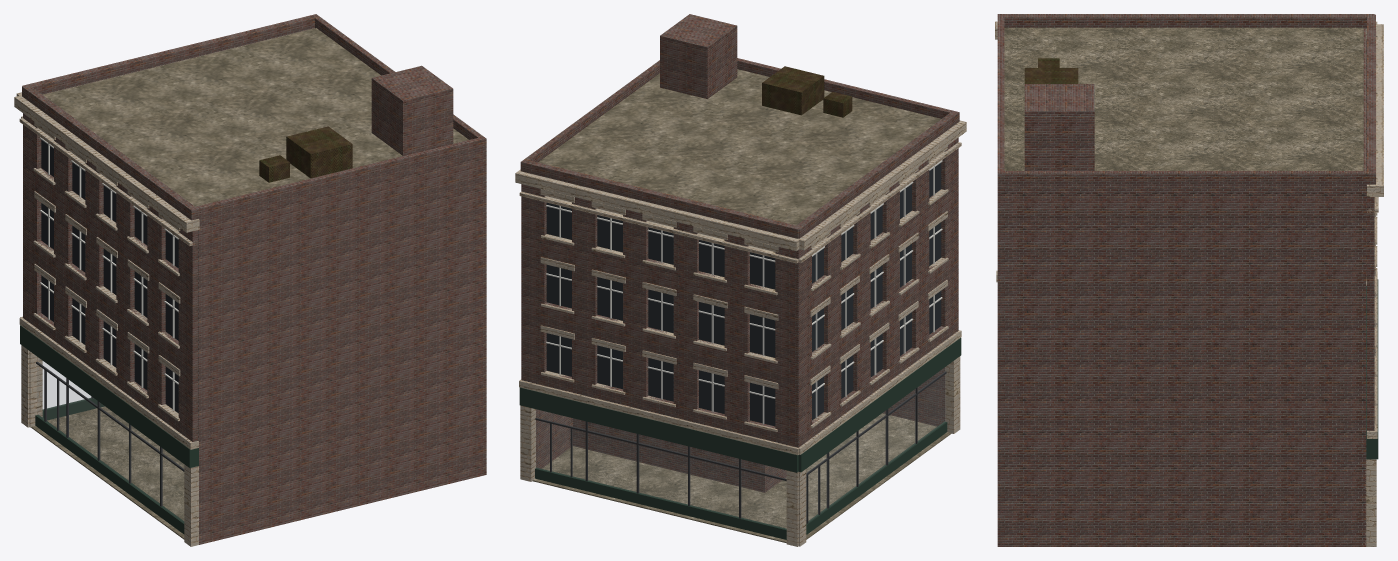
Rendered from bldg_corner_4st_L.gltf.
The picture shows the model from 3 angles, left to right: view 1: azimuth 30°, elevation 25°; view 2: azimuth 150°, elevation 25°; view 3: azimuth 270°, elevation 25°; orthographic projection. The views are drawn at different scales.
Parts seen in each view (by area): view 1: bldg_corner_4st_L; view 2: bldg_corner_4st_L; view 3: bldg_corner_4st_L.
Boxes of the visible parts, x1=… form: bldg_corner_4st_L: x1=14, y1=14, x2=486, y2=546; bldg_corner_4st_L: x1=515, y1=14, x2=966, y2=546; bldg_corner_4st_L: x1=995, y1=14, x2=1383, y2=546.
Size of what is drawn, in the model's own units: 14.45 by 17.42 by 14.45.
Materials: 9 (4 with a texture image).
